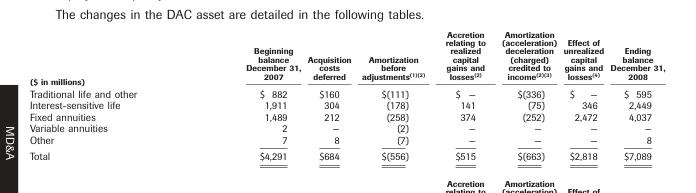table: (28, 28, 664, 162)
table column: (28, 28, 190, 162), (190, 28, 303, 162), (355, 28, 434, 162), (492, 28, 559, 162), (434, 28, 492, 162), (606, 28, 664, 162), (303, 28, 355, 162), (559, 28, 606, 162)
table column header: (28, 28, 664, 86)
table row: (28, 28, 664, 86), (28, 147, 664, 162), (28, 133, 664, 147), (28, 86, 664, 99), (28, 110, 664, 122), (28, 99, 664, 110), (28, 122, 664, 133)
